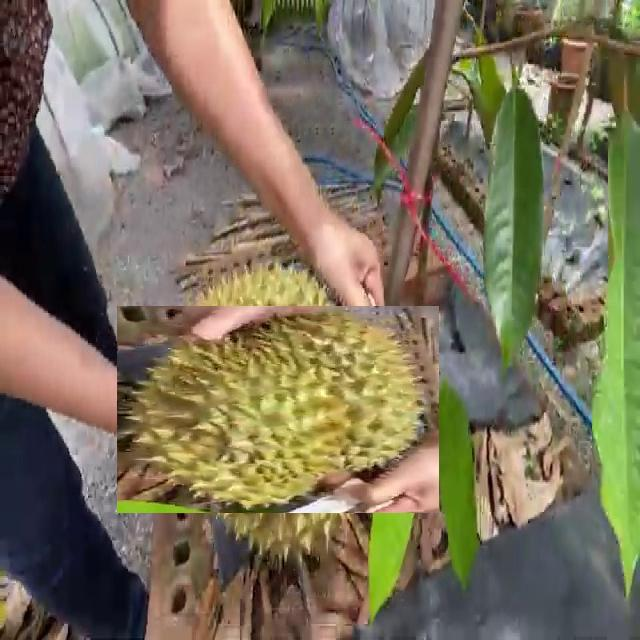durian: (145, 277, 411, 541)
